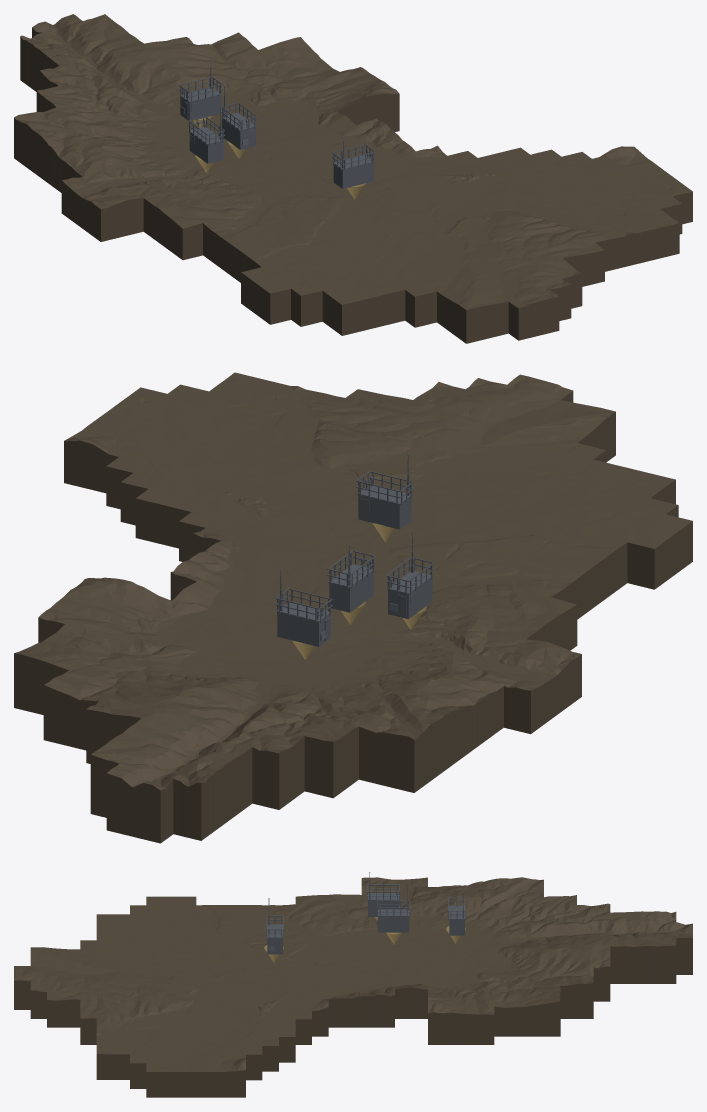
Rendered from lufti_scene.glb.
The picture shows the model from 3 angles, top to bottom: view 1: azimuth 30°, elevation 25°; view 2: azimuth 150°, elevation 25°; view 3: azimuth 270°, elevation 25°; orthographic projection. The views are drawn at different scales.
Visible parts, largest first — view 1: lo dec 005, S415, S416, S431, S184; view 2: lo dec 005, S416, S415, S431, S184; view 3: lo dec 005, S184, S431, S416, S415.
Boxes of the visible parts, <box> form: lo dec 005: <box>14,14,692,343</box>; S415: <box>179,56,222,120</box>; S416: <box>332,136,375,188</box>; S431: <box>188,108,225,163</box>; S184: <box>220,85,257,149</box>; lo dec 005: <box>14,372,692,843</box>; S416: <box>356,453,413,529</box>; S415: <box>275,569,332,646</box>; S431: <box>386,530,434,618</box>; S184: <box>327,543,375,612</box>; lo dec 005: <box>14,877,692,1097</box>; S184: <box>377,883,410,932</box>; S431: <box>367,872,399,916</box>; S416: <box>266,898,283,954</box>; S415: <box>448,891,465,935</box>.
Bounding box in the file's own units: 6.69 × 1.38 × 9.99.
